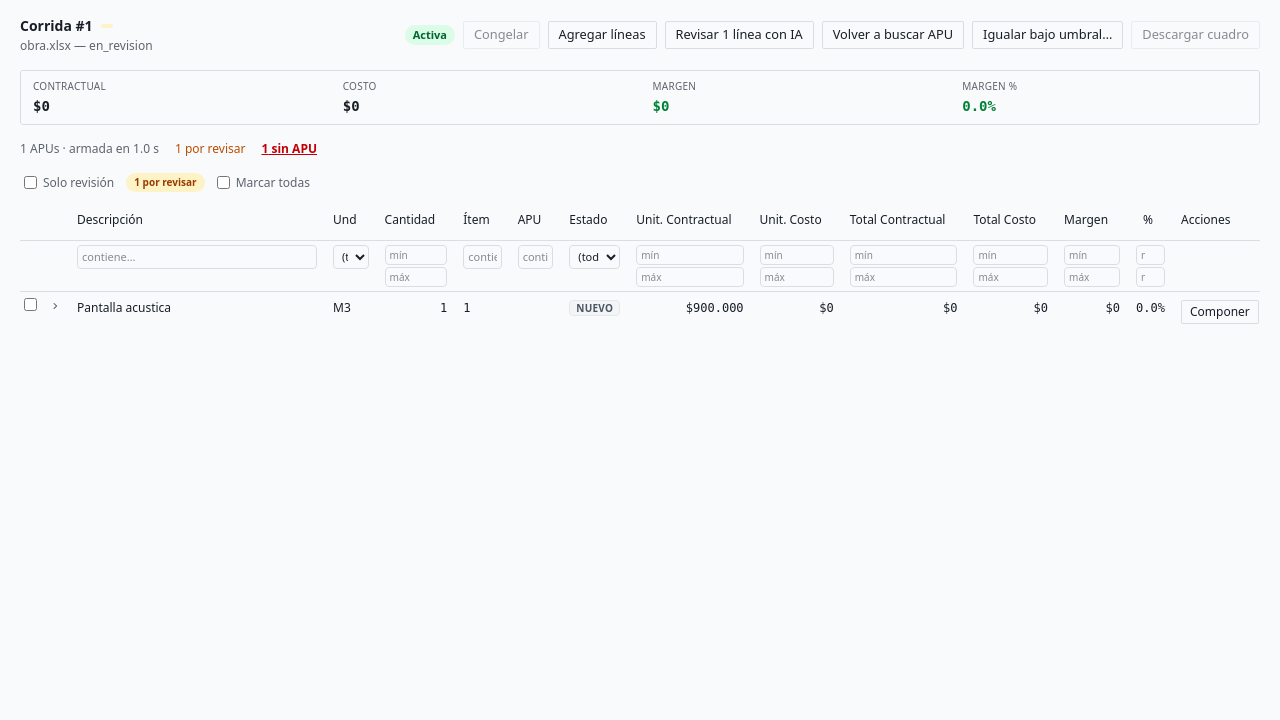
it: el botón pide la previa y abre el diálogo con las propuestas
Expected: the text "Pantalla acustica" is shown, [77,298,171,316]
Click the button "Volver a buscar APU" at coordinates (893, 35), box [822,21,964,49]
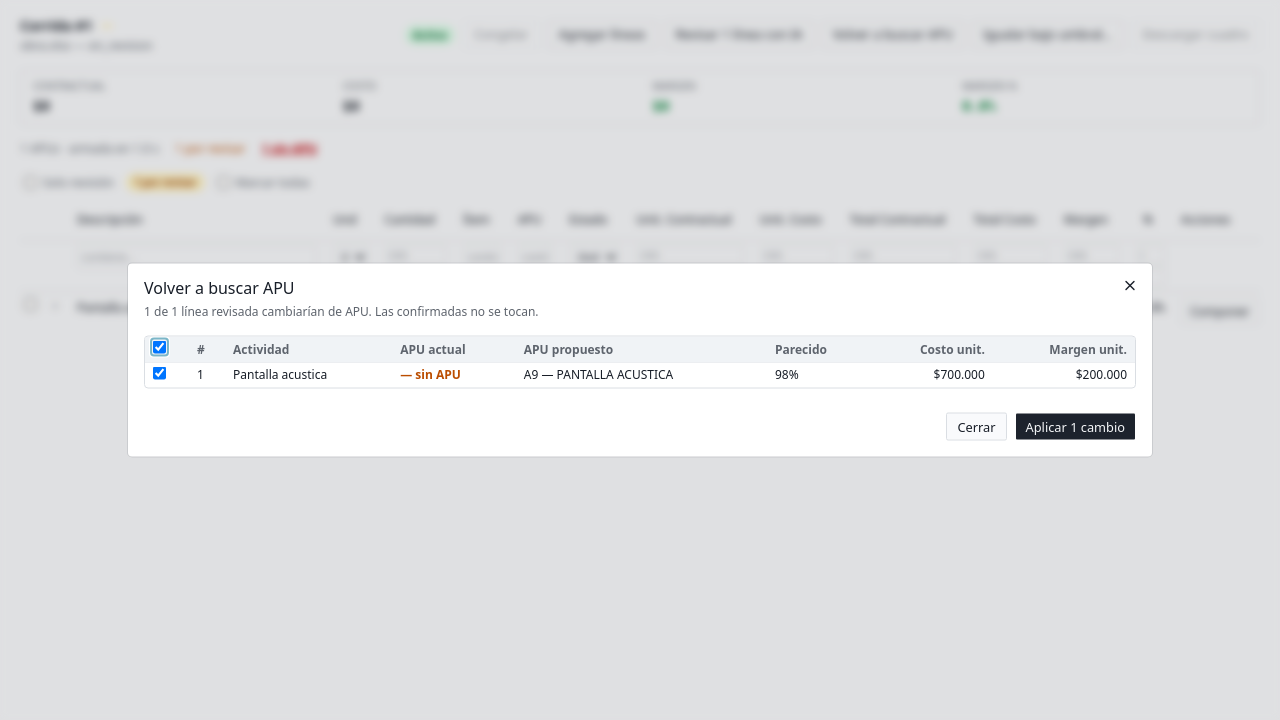
Expected: the text "A9 — PANTALLA ACUSTICA" is shown, [516,362,767,388]
Expected: the checkbox named "Marcar línea 1" is checked, [153,366,166,380]
